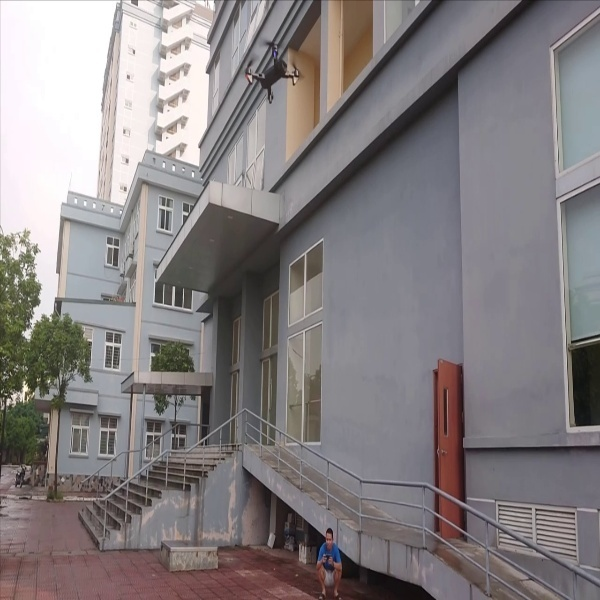drone: (239, 33, 309, 108)
